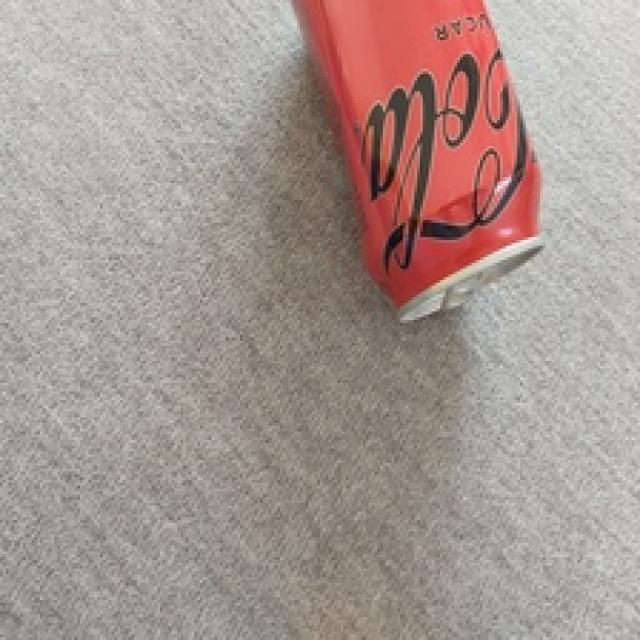recyclable: (292, 0, 548, 325)
